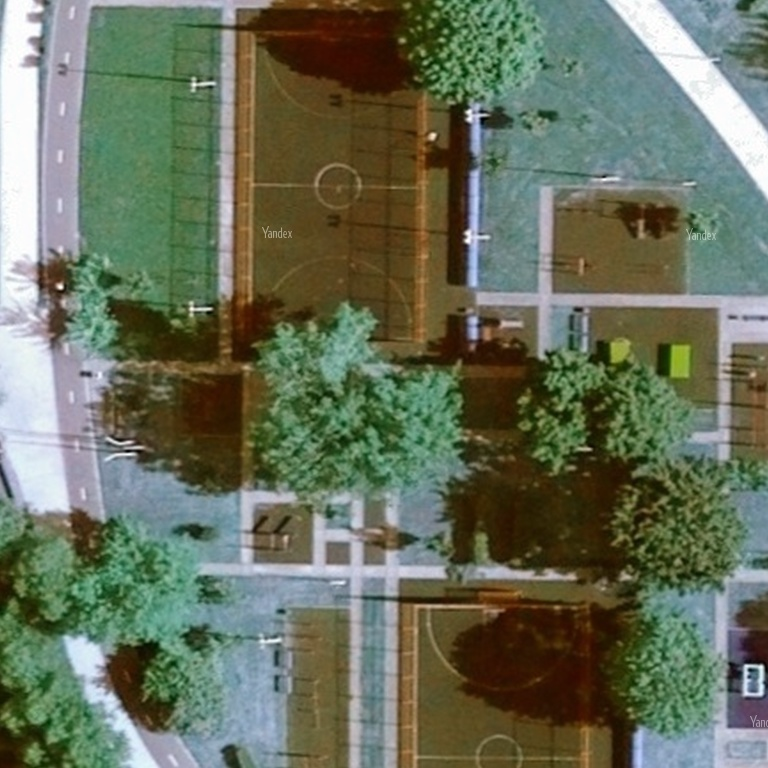basket_court: (218, 11, 442, 364), (385, 583, 619, 767)
